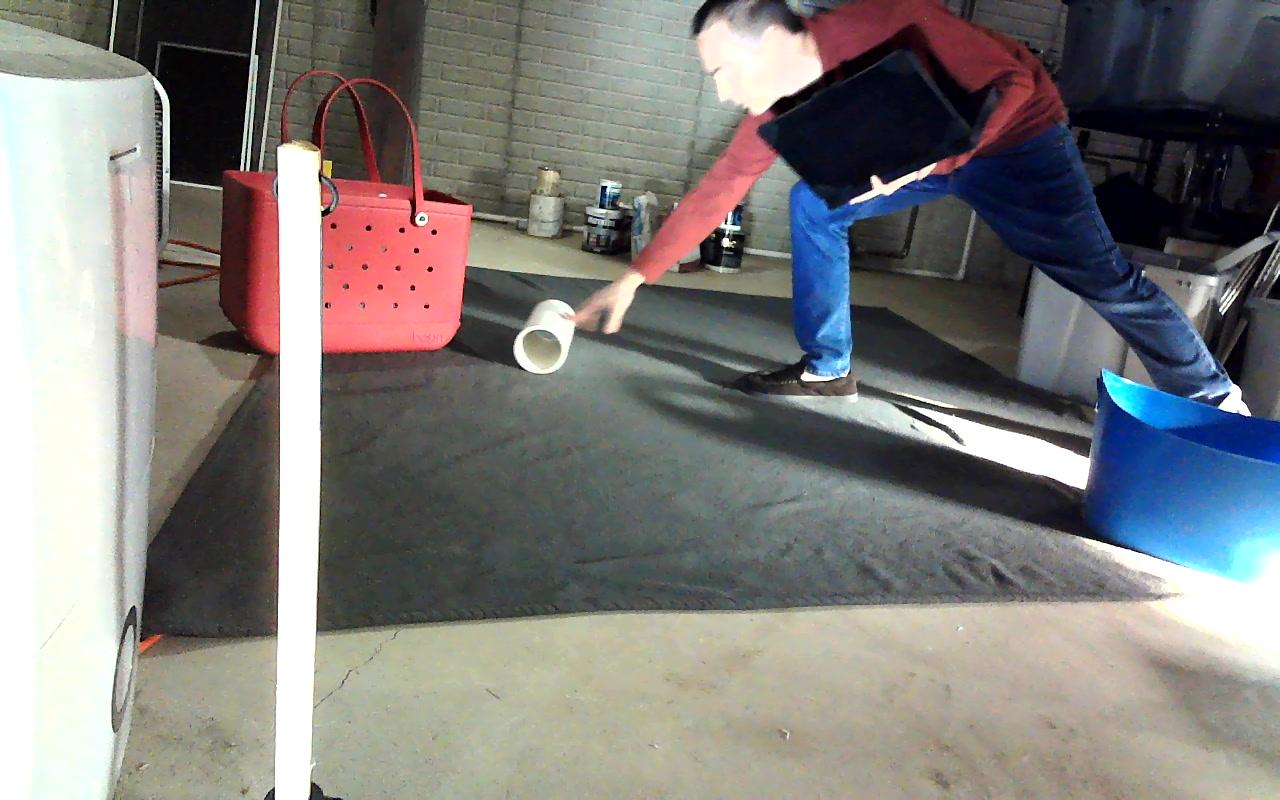coral: (513, 299, 576, 374)
